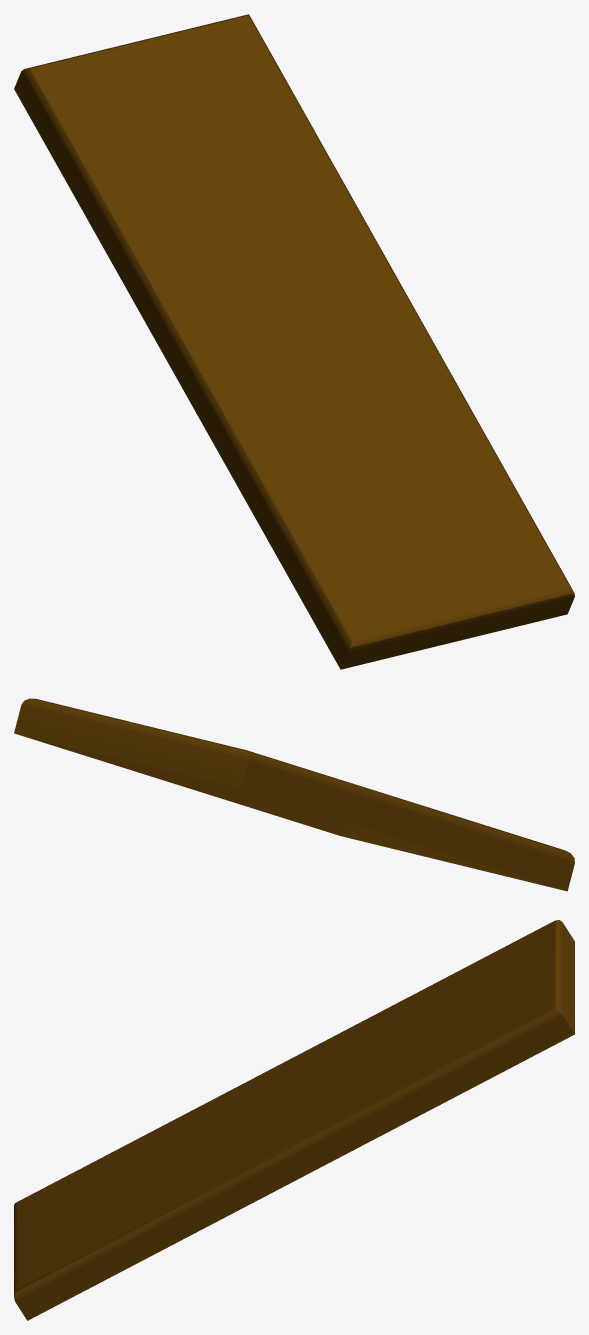
File: wooden_roof.fbx
3 views of the same model, one above another, from view 1: azimuth 30°, elevation 25°; view 2: azimuth 150°, elevation 25°; view 3: azimuth 270°, elevation 25° (orthographic). The views are drawn at different scales.
Visible parts, largest first — view 1: polySurface14; view 2: polySurface14; view 3: polySurface14.
Part boxes in pixels (x1,y1,x2,y2): polySurface14: (14,14,574,669); polySurface14: (14,698,574,891); polySurface14: (14,920,574,1320).
Bounding box in the file's own units: 0.3724 × 0.5788 × 0.9506.
